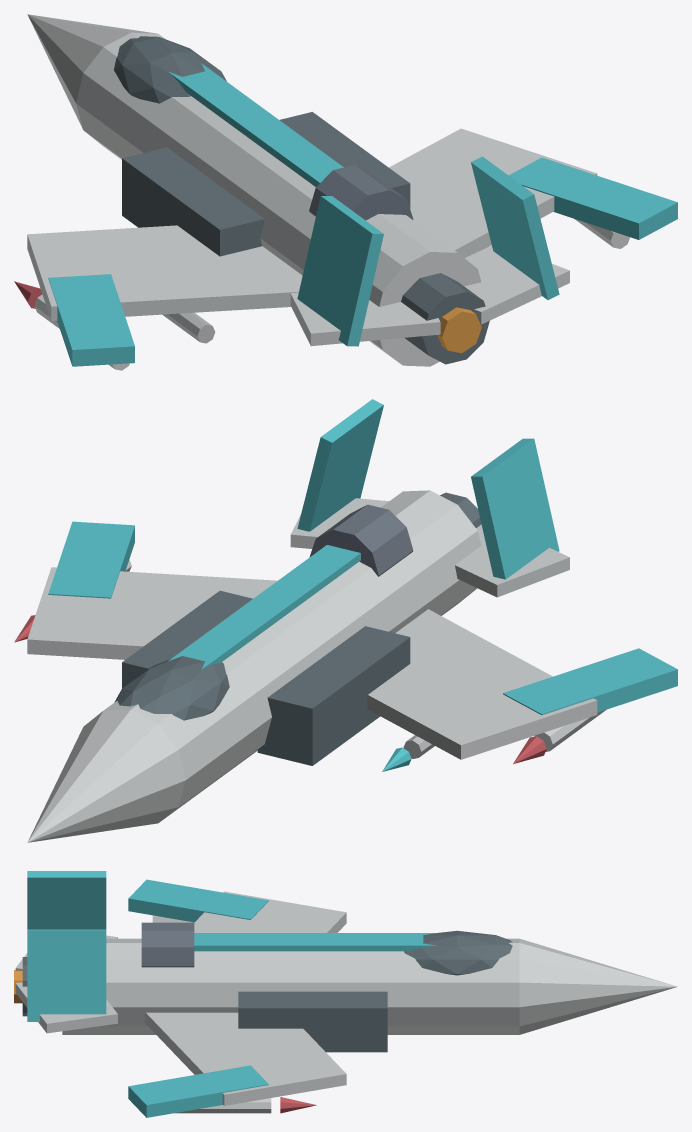
The model's file is player_fighter.glb.
3 renders of one model, top to bottom at view 1: azimuth 30°, elevation 25°; view 2: azimuth 150°, elevation 25°; view 3: azimuth 270°, elevation 25°, orthographic. The views are drawn at different scales.
Visible parts, largest first — view 1: p0, p5, p6, p9, p13, p8, p7, p14, p3, p4, p1, p11 (+7 smaller); view 2: p0, p5, p1, p6, p9, p13, p3, p7, p14, p8, p4, p2 (+4 smaller); view 3: p0, p6, p1, p10, p14, p13, p3, p8, p7, p5, p4, p2 (+2 smaller).
Boxes of the visible parts, bbox=[...] form: p0: bbox=[76, 32, 481, 366]; p5: bbox=[27, 225, 302, 321]; p6: bbox=[389, 128, 597, 257]; p9: bbox=[122, 147, 264, 256]; p13: bbox=[297, 196, 383, 346]; p8: bbox=[509, 157, 677, 239]; p7: bbox=[48, 274, 134, 366]; p14: bbox=[471, 156, 559, 299]; p3: bbox=[168, 63, 343, 186]; p4: bbox=[114, 36, 226, 103]; p1: bbox=[27, 14, 156, 128]; p11: bbox=[290, 292, 440, 346]; p0: bbox=[104, 490, 481, 820]; p5: bbox=[367, 609, 597, 759]; p1: bbox=[27, 709, 185, 842]; p6: bbox=[27, 567, 277, 659]; p9: bbox=[257, 626, 410, 765]; p13: bbox=[471, 438, 559, 579]; p3: bbox=[168, 545, 360, 669]; p7: bbox=[503, 648, 677, 714]; p14: bbox=[297, 399, 383, 531]; p8: bbox=[48, 521, 134, 598]; p4: bbox=[114, 656, 229, 720]; p2: bbox=[309, 504, 413, 576]; p0: bbox=[62, 938, 519, 1034]; p6: bbox=[144, 1012, 346, 1105]; p1: bbox=[519, 939, 677, 1034]; p10: bbox=[238, 991, 387, 1052]; p14: bbox=[27, 929, 106, 1021]; p13: bbox=[27, 871, 106, 929]; p3: bbox=[194, 933, 436, 951]; p8: bbox=[128, 1065, 268, 1117]; p7: bbox=[128, 879, 268, 922]; p5: bbox=[194, 891, 346, 932]; p4: bbox=[404, 930, 512, 975]; p2: bbox=[141, 922, 194, 967].
Bounding box in the file's own units: 6.07 × 1.71 × 7.55.
